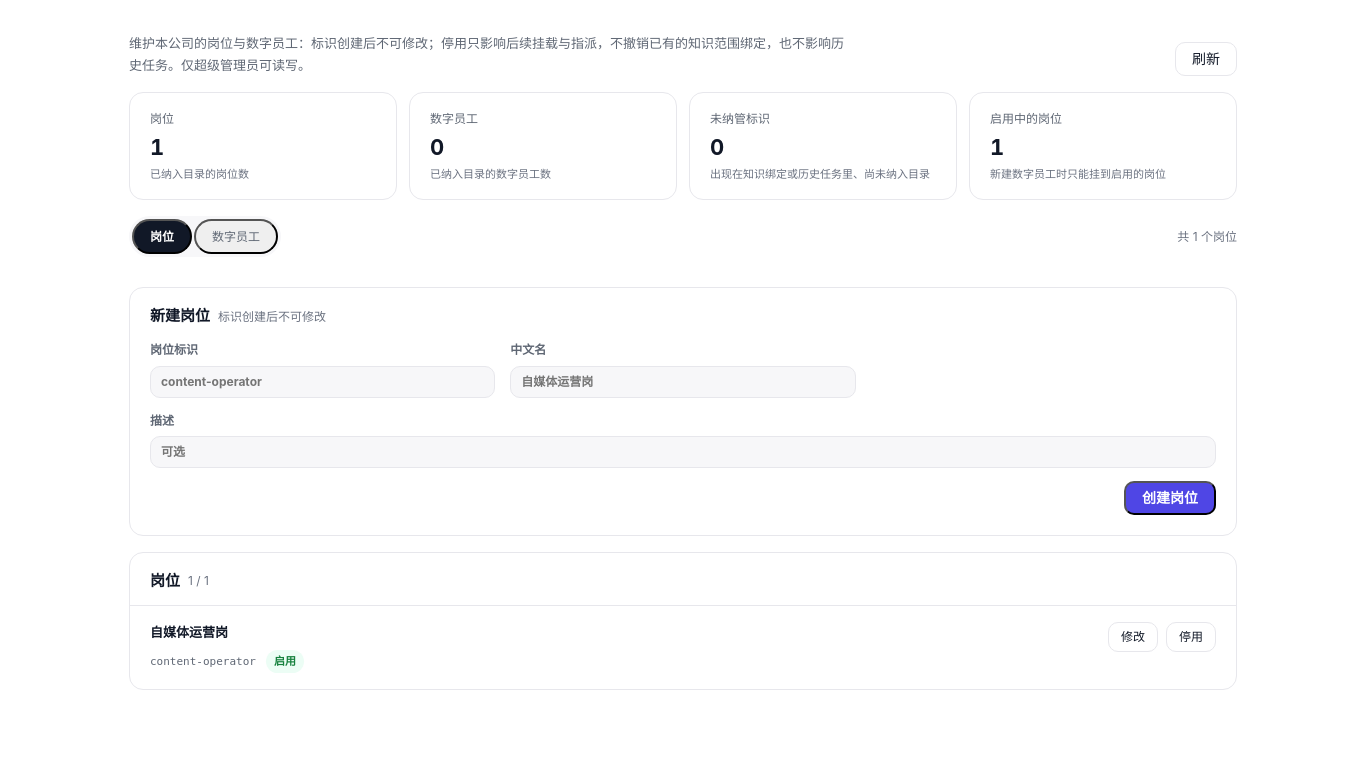
Scenario: WorkforceSettingsPage › creates an employee under the selected role
Expected: the text "自媒体运营岗" is shown, left=150, top=624, right=228, bottom=640
Step 1. Click the tab "数字员工" → (236, 237), box left=194, top=219, right=278, bottom=254
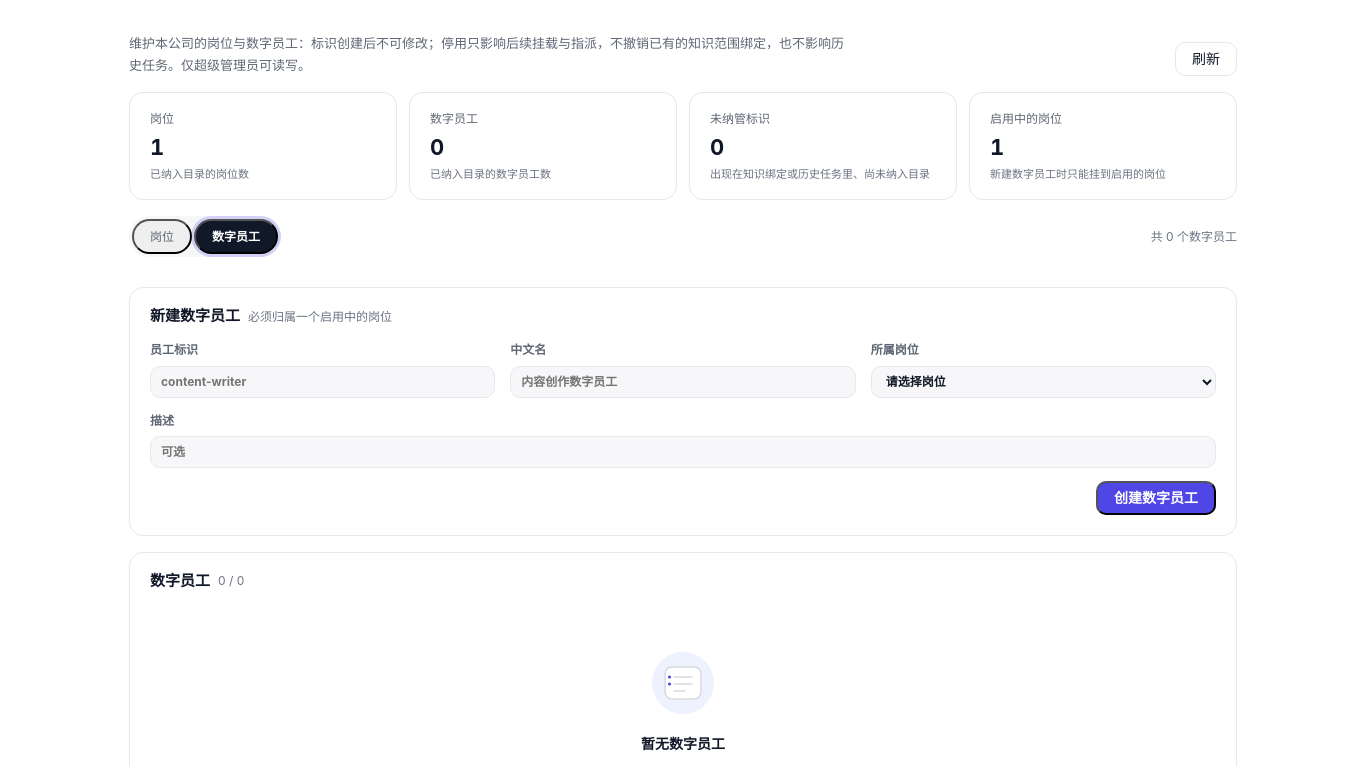
Expected: the heading "暂无数字员工" is shown, left=641, top=733, right=725, bottom=755
Step 2. Type "geo-analyst" into the field labelled "员工标识" → (323, 382), box left=150, top=366, right=495, bottom=398
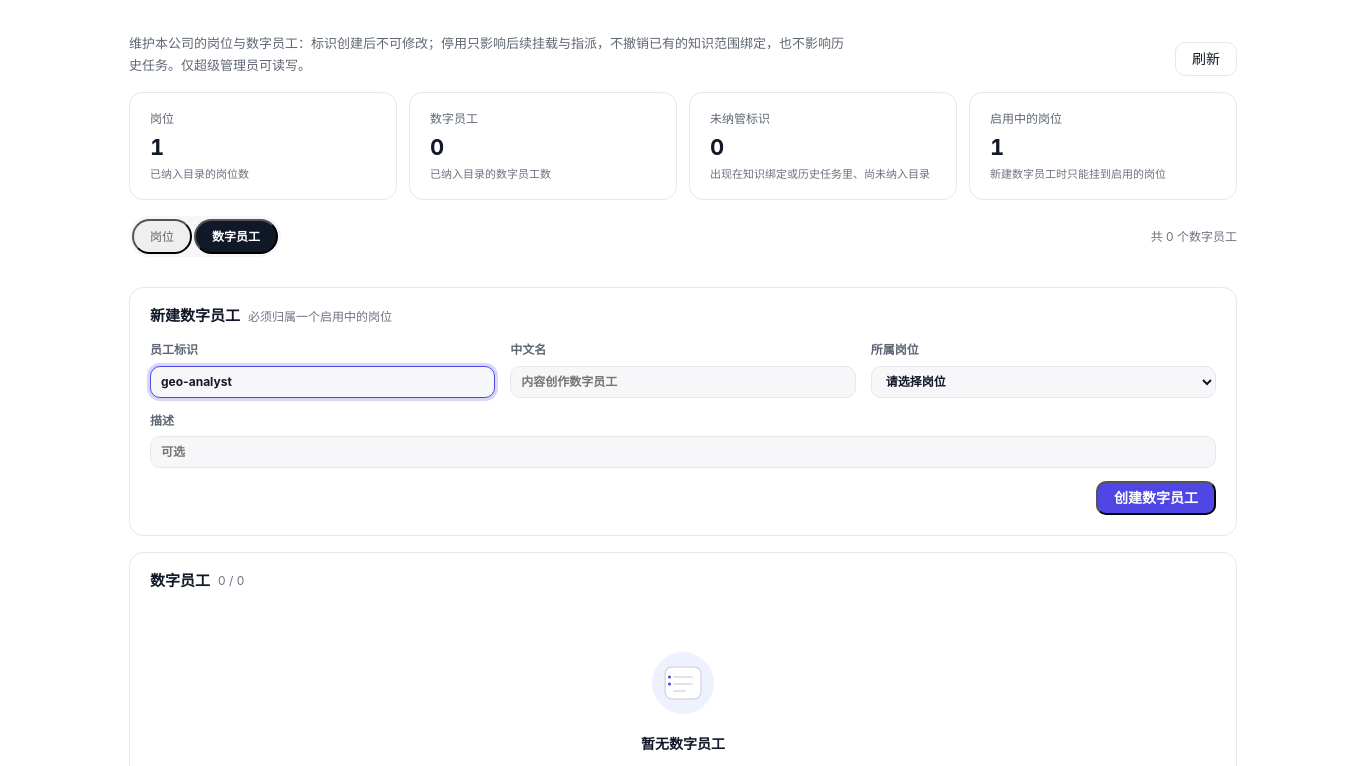
Step 3. Type "GEO 分析数字员工" into the field labelled "中文名" → (683, 382), box left=510, top=366, right=856, bottom=398
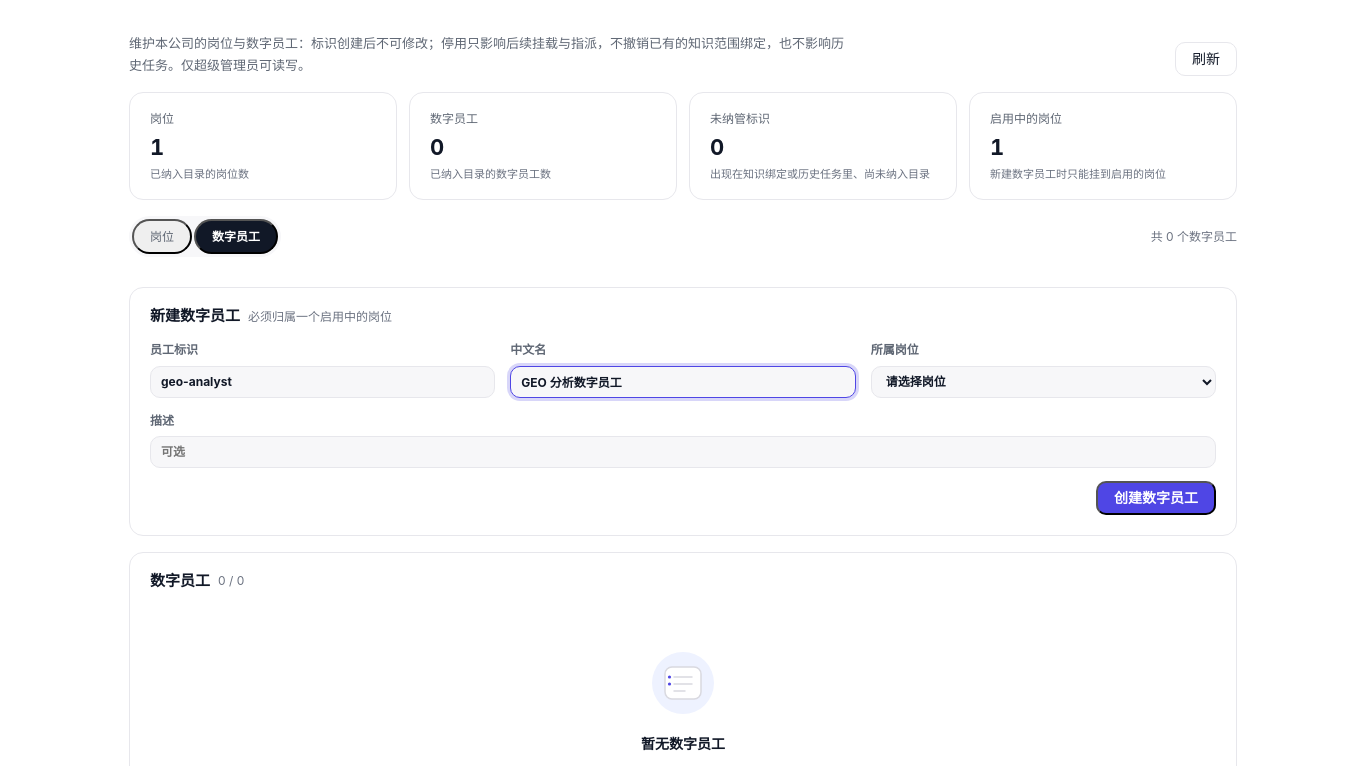
Step 4. Select "自媒体运营岗（content-operator）" in the dropdown labelled "所属岗位" → (1043, 382), box left=871, top=366, right=1216, bottom=398
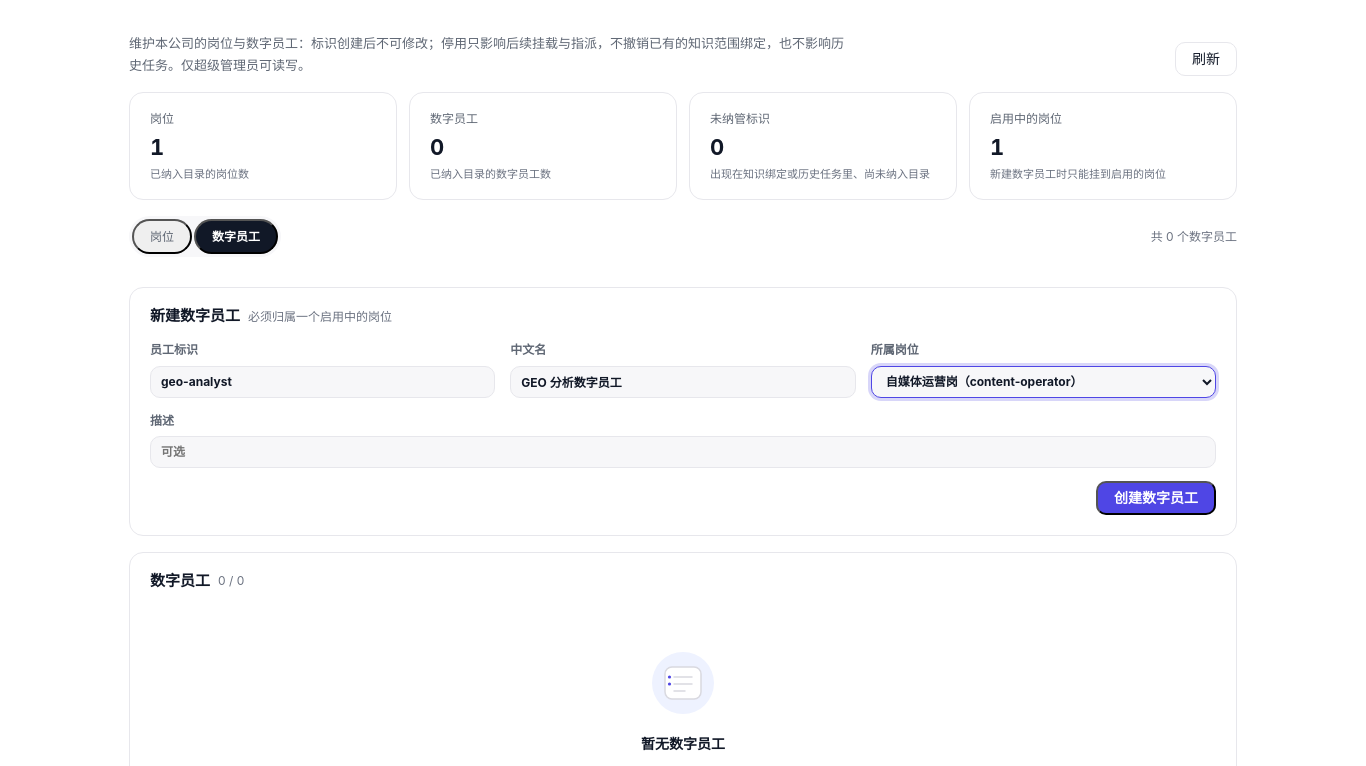
Step 5. Click the button "创建数字员工" → (1156, 498), box left=1096, top=481, right=1216, bottom=515
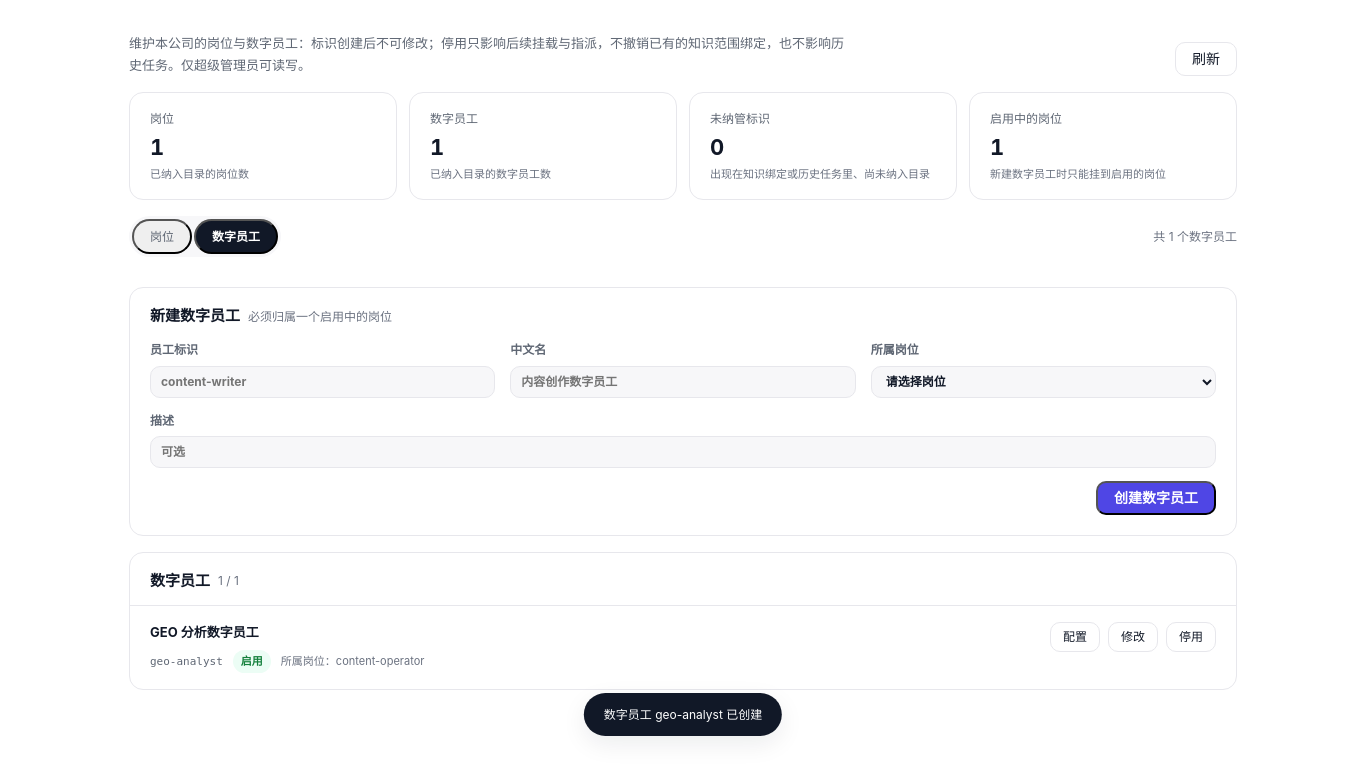
Expected: the text "GEO 分析数字员工" is shown, left=150, top=624, right=259, bottom=640
